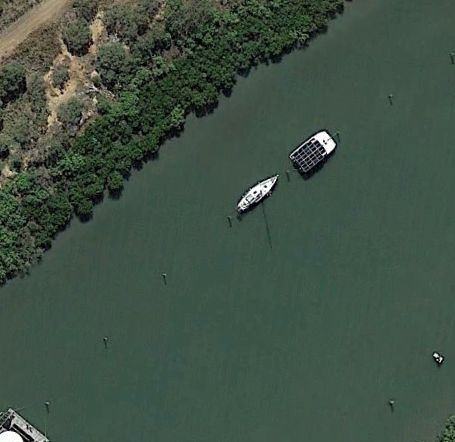boat: (288, 129, 338, 179), (235, 172, 283, 215)
